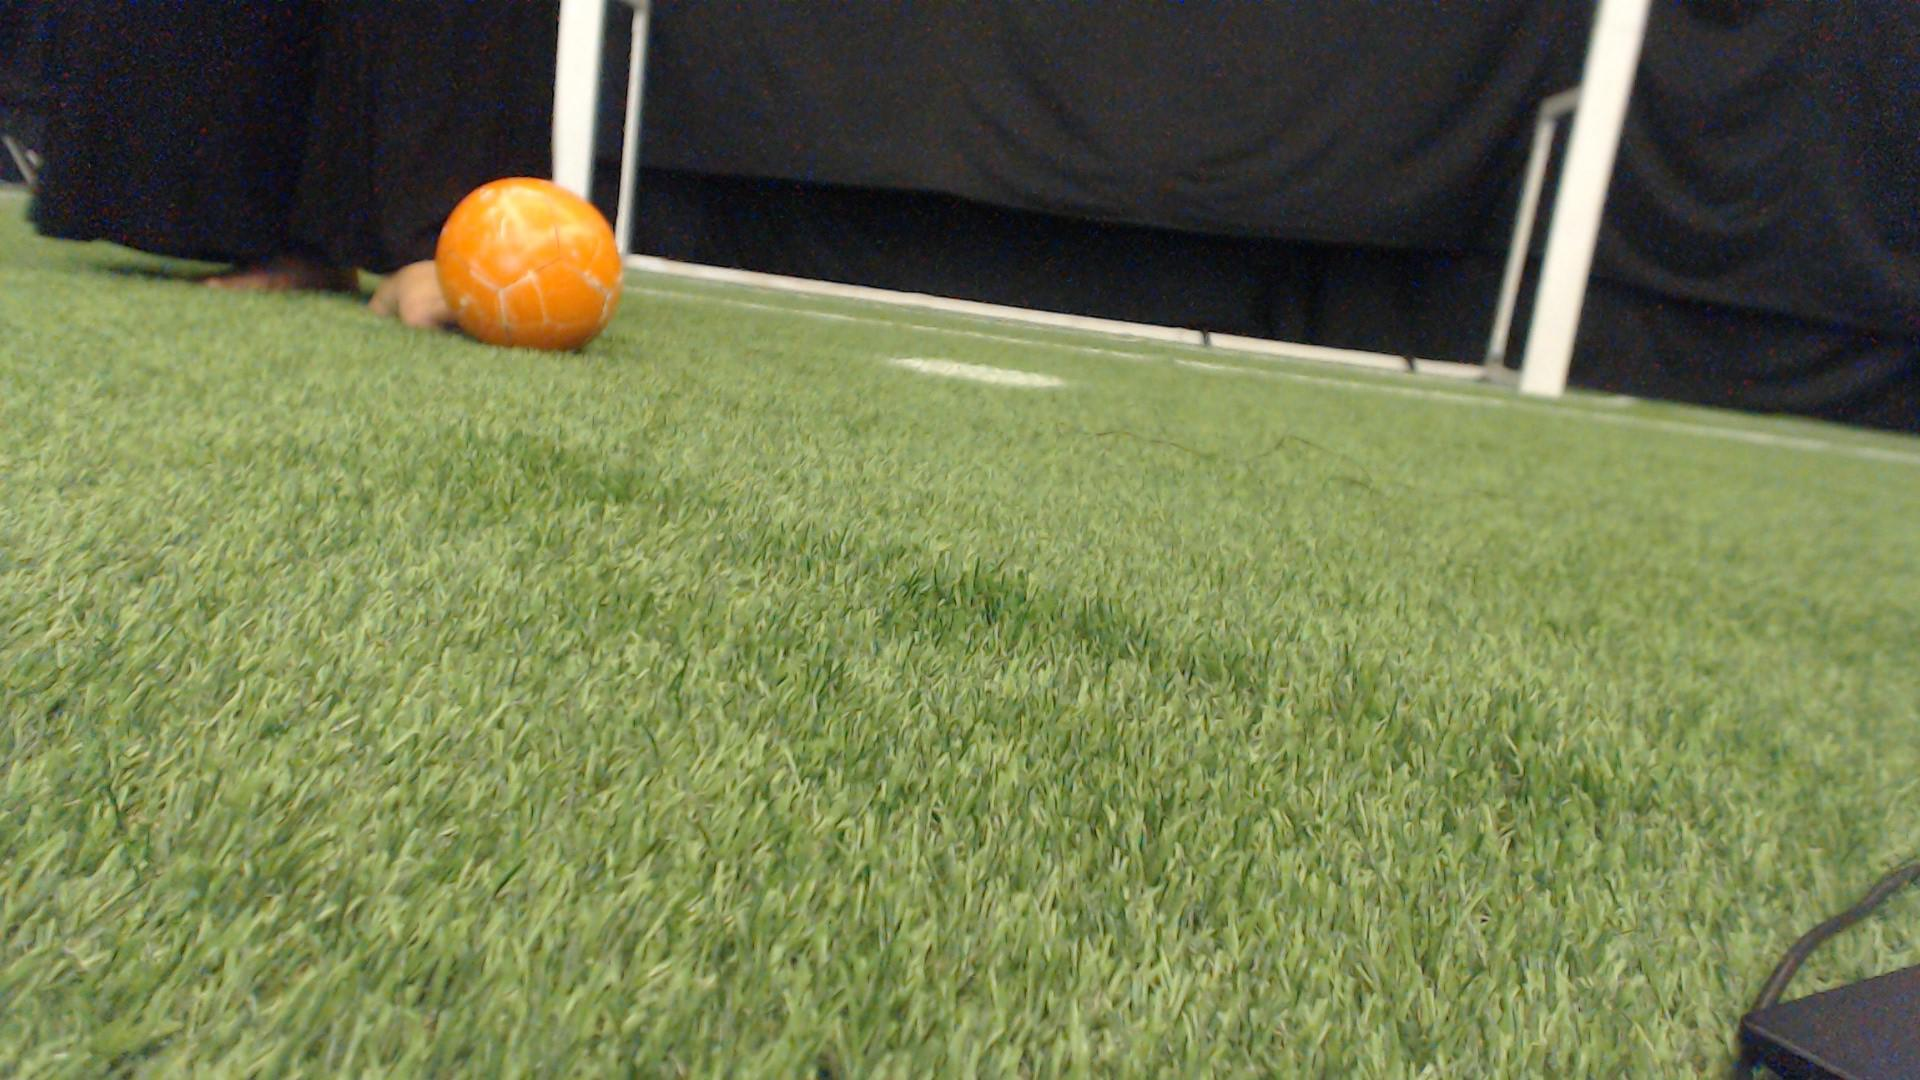bola: (423, 162, 632, 355)
